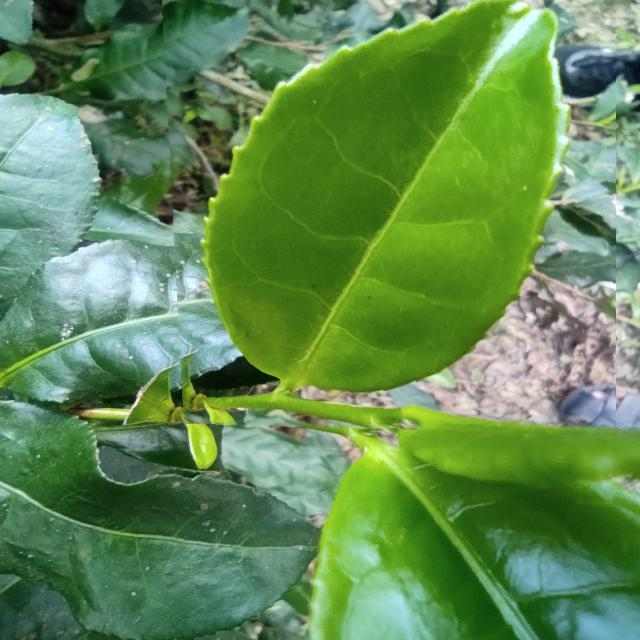Category C(4-7 days): (161, 0, 616, 437)
